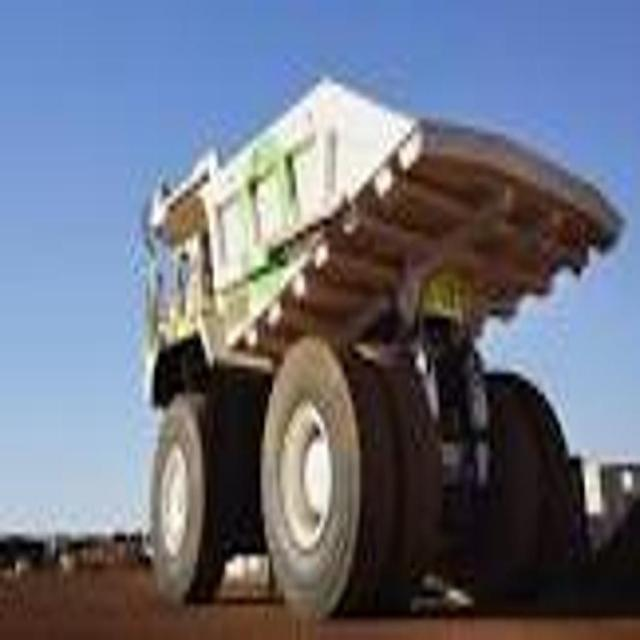dump_truck: (141, 73, 625, 622)
